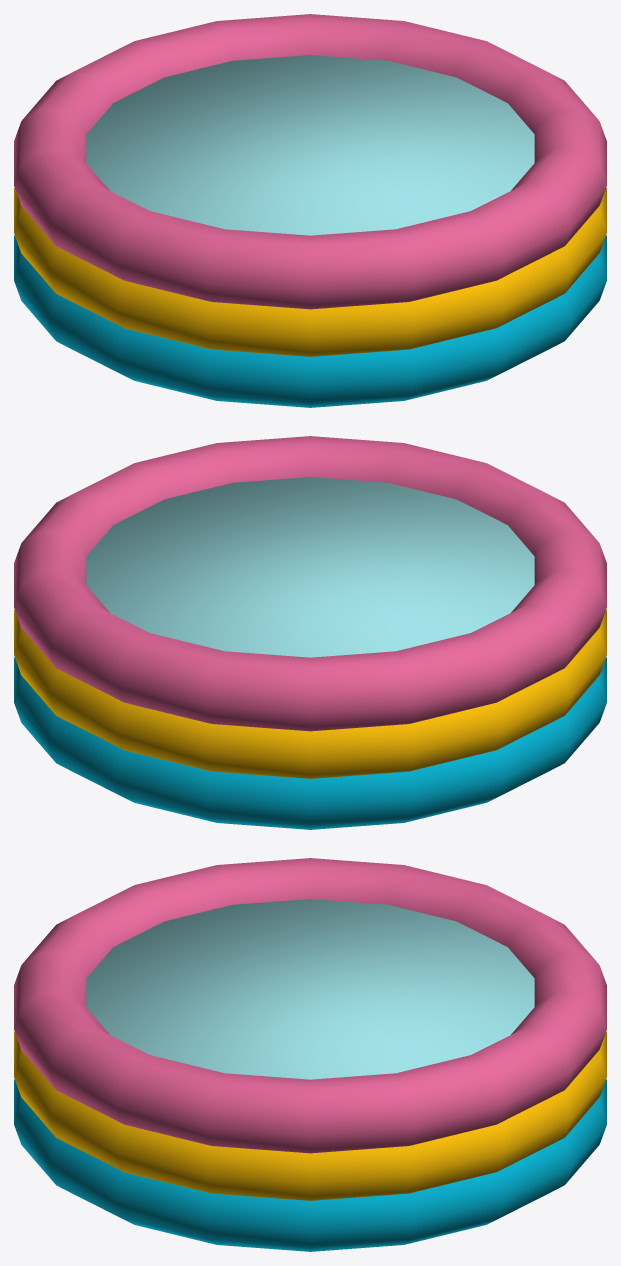
Rendered from InflatablePoolSmall.glb.
The picture shows the model from 3 angles, top to bottom: view 1: azimuth 30°, elevation 25°; view 2: azimuth 150°, elevation 25°; view 3: azimuth 270°, elevation 25°; orthographic projection.
Parts seen in each view (by area): view 1: InflatablePoolSmall_OuterRingTop, InflatablePoolSmall_InnerWall, InflatablePoolSmall_OuterRingBottom, InflatablePoolSmall_OuterRingMiddle; view 2: InflatablePoolSmall_OuterRingTop, InflatablePoolSmall_InnerWall, InflatablePoolSmall_OuterRingBottom, InflatablePoolSmall_OuterRingMiddle; view 3: InflatablePoolSmall_OuterRingTop, InflatablePoolSmall_InnerWall, InflatablePoolSmall_OuterRingBottom, InflatablePoolSmall_OuterRingMiddle.
Boxes of the visible parts, x1,y1,x2,y2 form: InflatablePoolSmall_OuterRingTop: [14, 14, 606, 309]; InflatablePoolSmall_InnerWall: [86, 55, 534, 235]; InflatablePoolSmall_OuterRingBottom: [14, 235, 606, 407]; InflatablePoolSmall_OuterRingMiddle: [14, 188, 606, 356]; InflatablePoolSmall_OuterRingTop: [14, 436, 606, 731]; InflatablePoolSmall_InnerWall: [86, 477, 534, 657]; InflatablePoolSmall_OuterRingBottom: [14, 657, 606, 829]; InflatablePoolSmall_OuterRingMiddle: [14, 610, 606, 778]; InflatablePoolSmall_OuterRingTop: [14, 858, 606, 1153]; InflatablePoolSmall_InnerWall: [86, 899, 534, 1079]; InflatablePoolSmall_OuterRingBottom: [14, 1079, 606, 1251]; InflatablePoolSmall_OuterRingMiddle: [14, 1032, 606, 1200].
Size of the model in its own units: 3.56 by 1.06 by 3.51.
